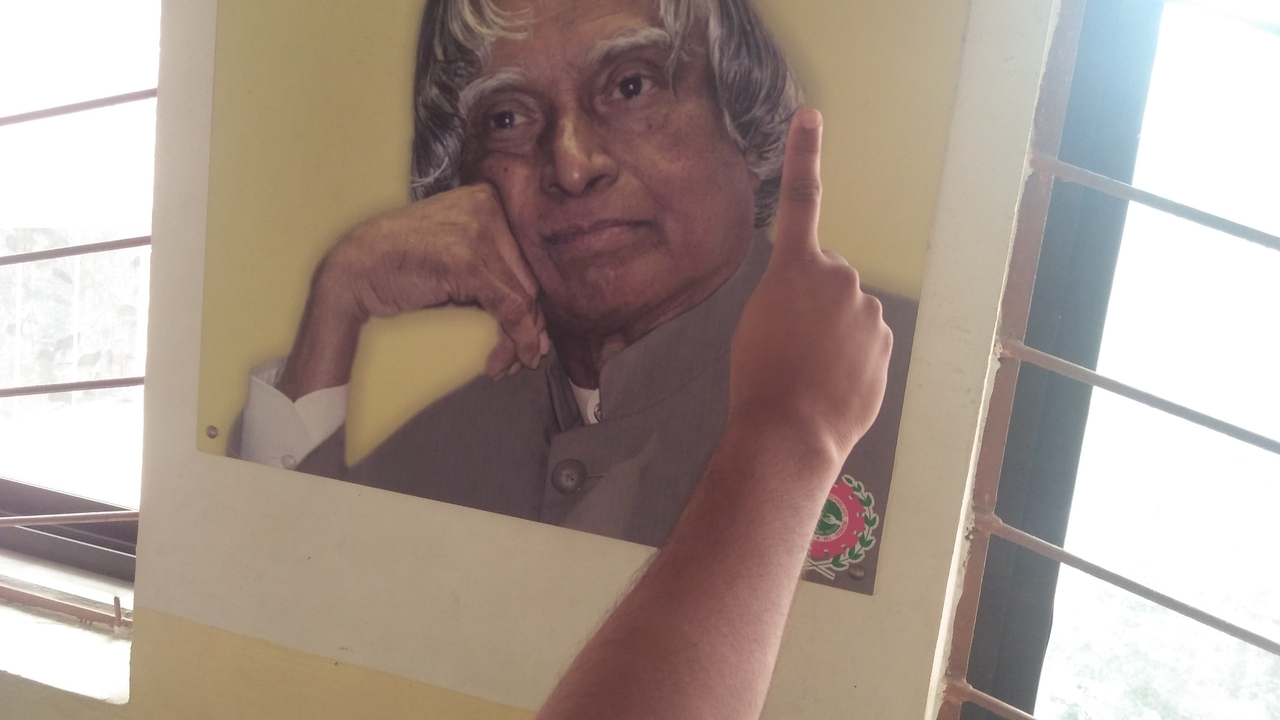fingertip: (784, 96, 834, 140)
